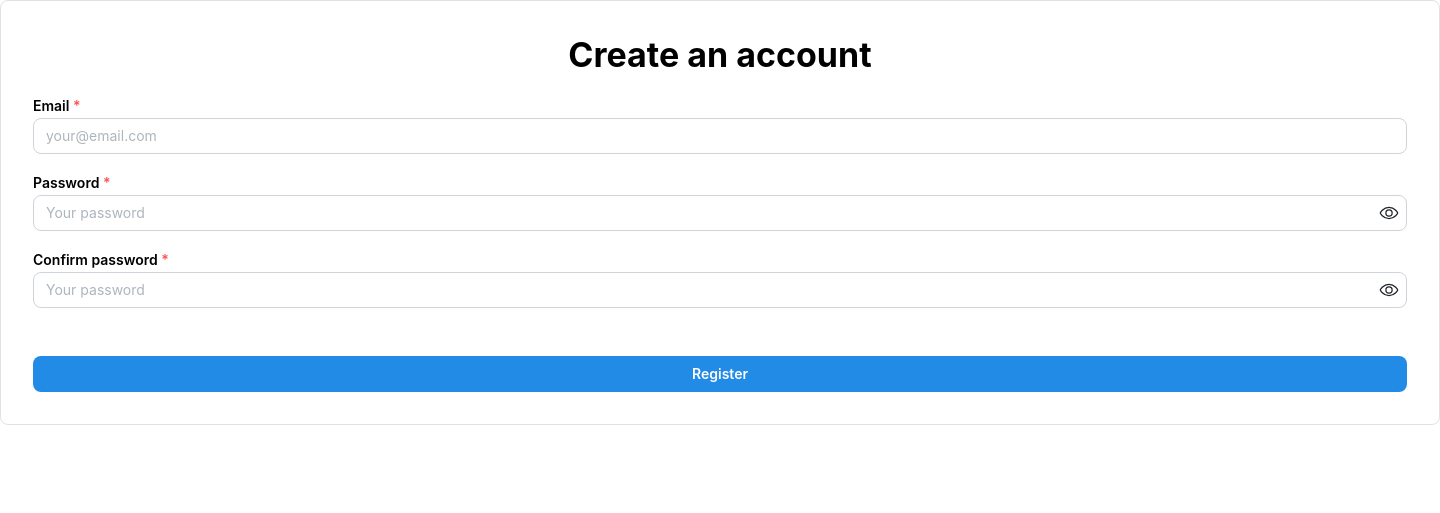
Test: Register › does not post when linkOrigin includes a path
Type "ada@example.com" into the field labelled "Email *".
click(720, 136); type("ada@example.com")  # box [33,118,1407,154]
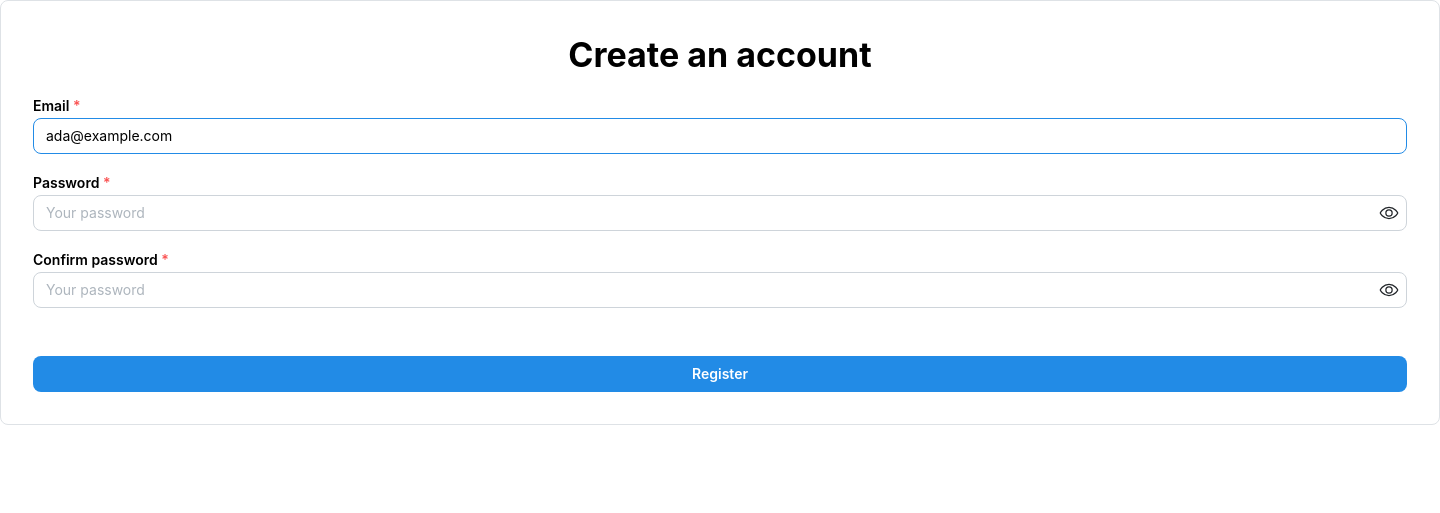
Type "secret12ab" into the password field labelled "Password *".
click(720, 213); type("secret12ab")  # box [34,196,1406,230]
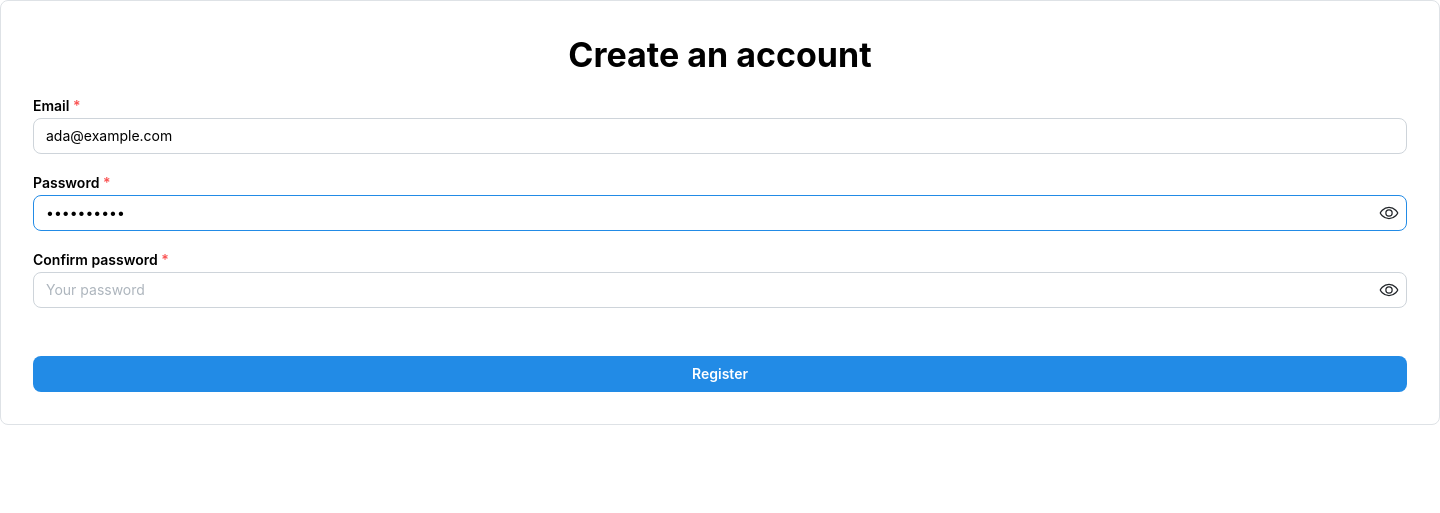
Type "secret12ab" into the password field labelled "Confirm password *".
click(720, 290); type("secret12ab")  # box [34,273,1406,307]
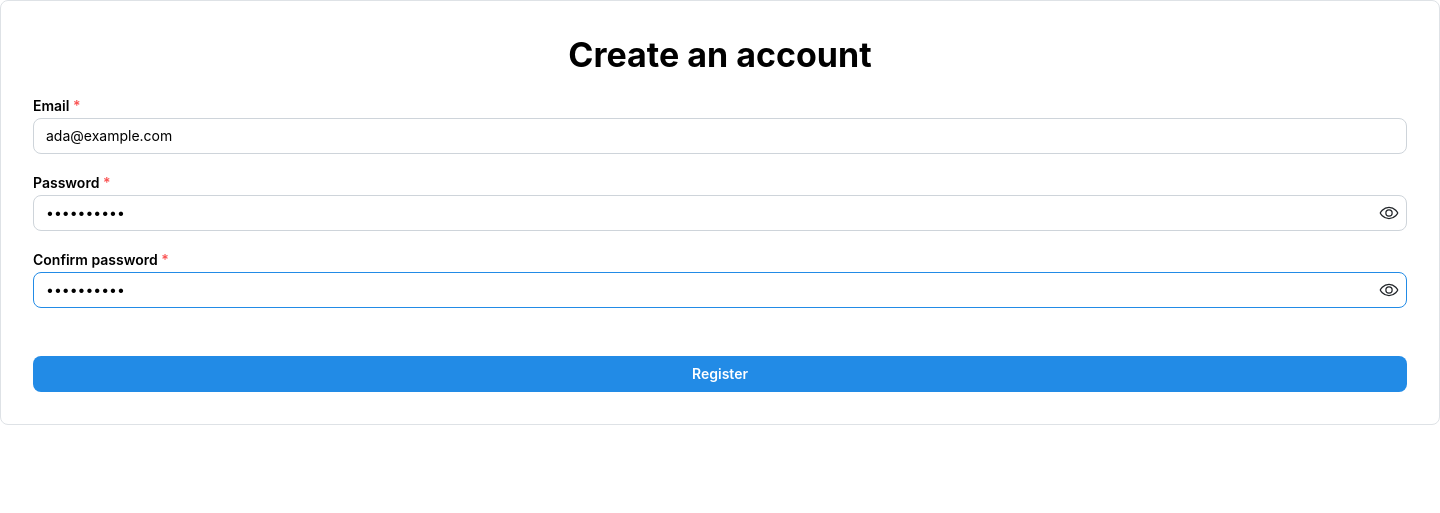
Click the button "Register".
click(720, 374)  # box [33,356,1407,392]
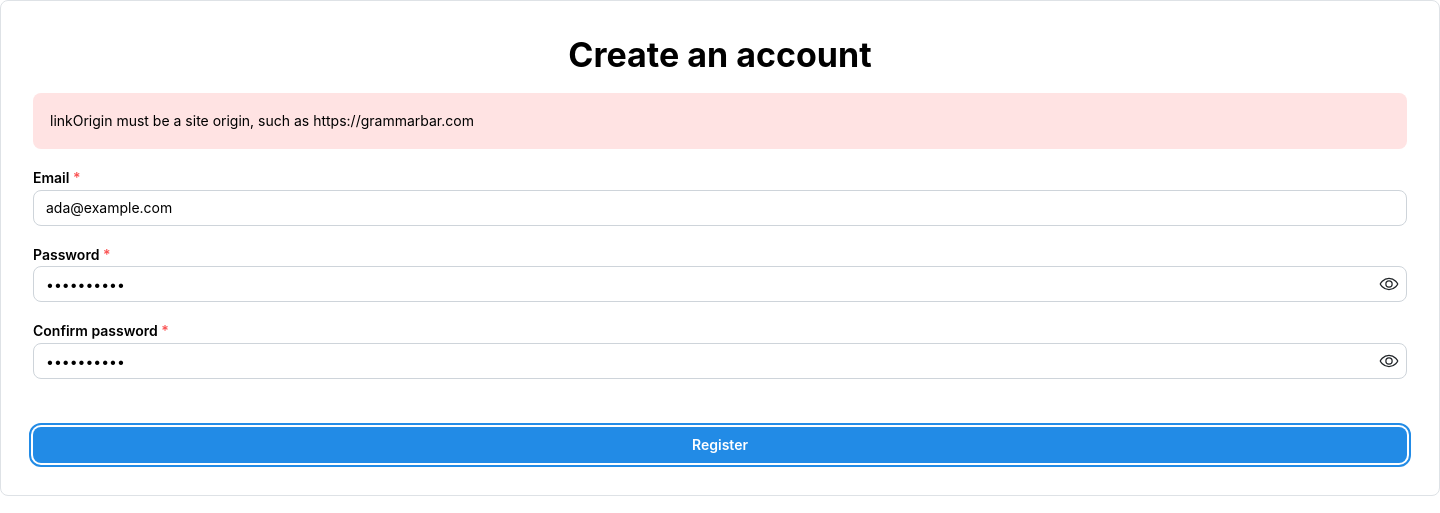
Now the message reads "linkOrigin must be a site origin, such as https://grammarbar.com", box [50,112,474,129]
